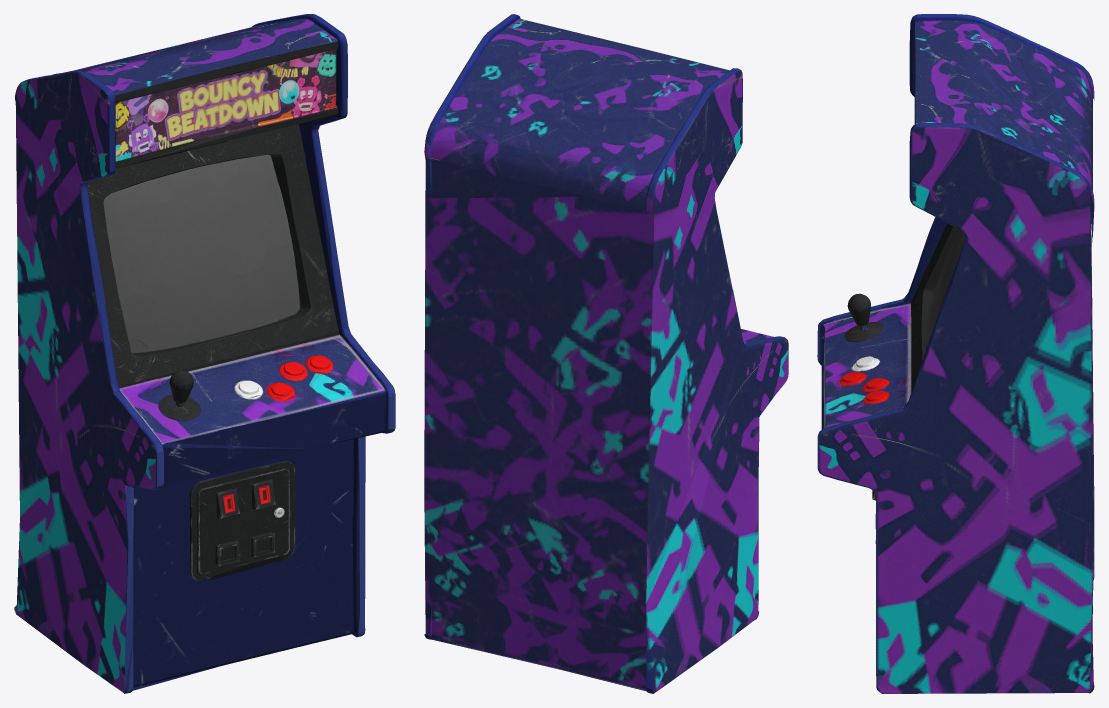
Rendered from arcade_cabinet_a.glb.
3 renders of one model, left to right at view 1: azimuth 30°, elevation 25°; view 2: azimuth 150°, elevation 25°; view 3: azimuth 270°, elevation 25°, orthographic. The views are drawn at different scales.
Size of the model in its own units: 0.8112 by 1.9 by 0.8392.
Materials: 1 (1 with a texture image).
